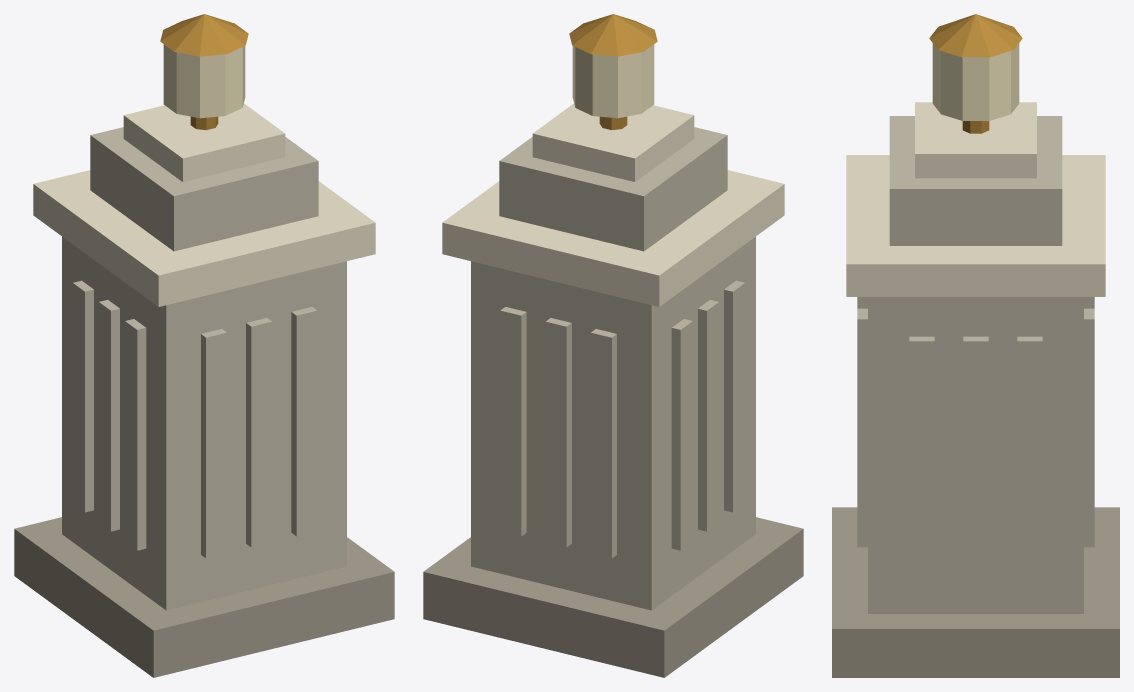
Rendered from bridge_pylon.glb.
The picture shows the model from 3 angles, left to right: view 1: azimuth 30°, elevation 25°; view 2: azimuth 150°, elevation 25°; view 3: azimuth 270°, elevation 25°; orthographic projection. The views are drawn at different scales.
Parts seen in each view (by area): view 1: bridge_pylon; view 2: bridge_pylon; view 3: bridge_pylon.
Part boxes in pixels (x1=…): bridge_pylon: x1=14, y1=14, x2=394, y2=677; bridge_pylon: x1=423, y1=14, x2=803, y2=677; bridge_pylon: x1=832, y1=14, x2=1119, y2=677.
Size of the model in its own units: 1.6 by 3.7 by 1.6.
